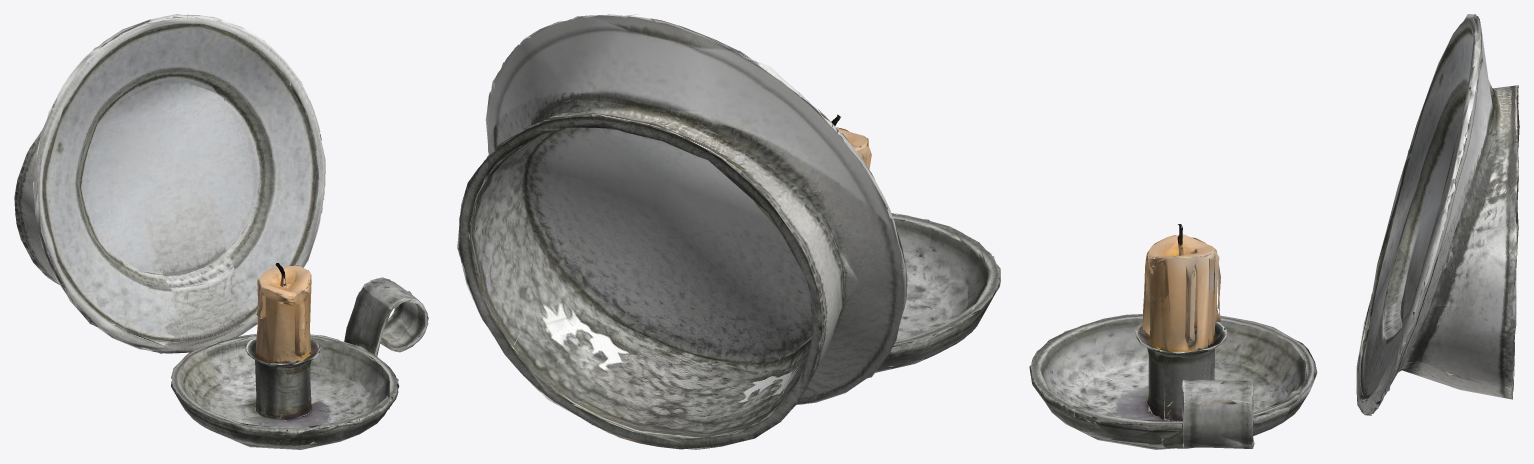
Rendered from candle-sconce-interior-lod.glb.
The picture shows the model from 3 angles, left to right: view 1: azimuth 30°, elevation 25°; view 2: azimuth 150°, elevation 25°; view 3: azimuth 270°, elevation 25°; orthographic projection. The views are drawn at different scales.
Visible parts, largest first — view 1: Mesh_0; view 2: Mesh_0; view 3: Mesh_0.
Boxes of the visible parts, box(x1,y1,x2,y2) form: Mesh_0: box(14, 14, 428, 449); Mesh_0: box(457, 14, 1000, 449); Mesh_0: box(1029, 14, 1519, 449).
Size of the model in its own units: 1.61 by 1.6 by 1.9.
Materials: 1 (1 with a texture image).
